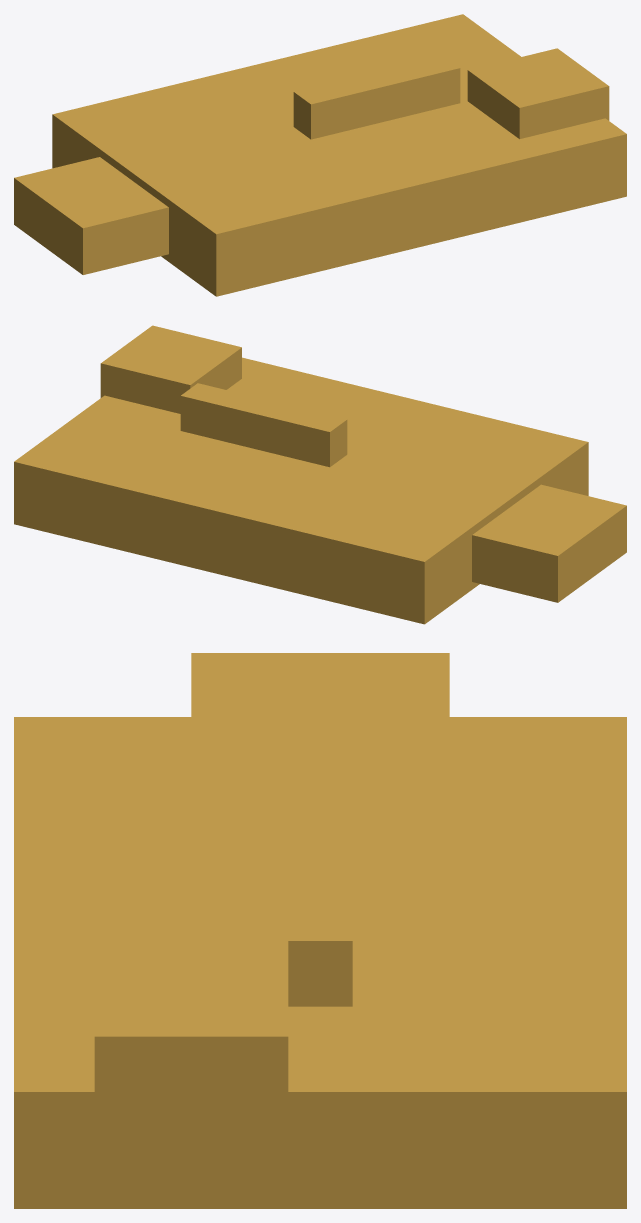
The model's file is fish_gilt_sole.glb.
3 renders of one model, top to bottom at view 1: azimuth 30°, elevation 25°; view 2: azimuth 150°, elevation 25°; view 3: azimuth 270°, elevation 25°, orthographic. The views are drawn at different scales.
Visible parts, largest first — view 1: species.gilt_sole; view 2: species.gilt_sole; view 3: species.gilt_sole.
Boxes of the visible parts, x1,y1,x2,y2 form: species.gilt_sole: [14, 14, 626, 296]; species.gilt_sole: [14, 325, 626, 624]; species.gilt_sole: [14, 653, 626, 1208].
Bounding box in the file's own units: 0.3 × 0.056 × 0.1701.
